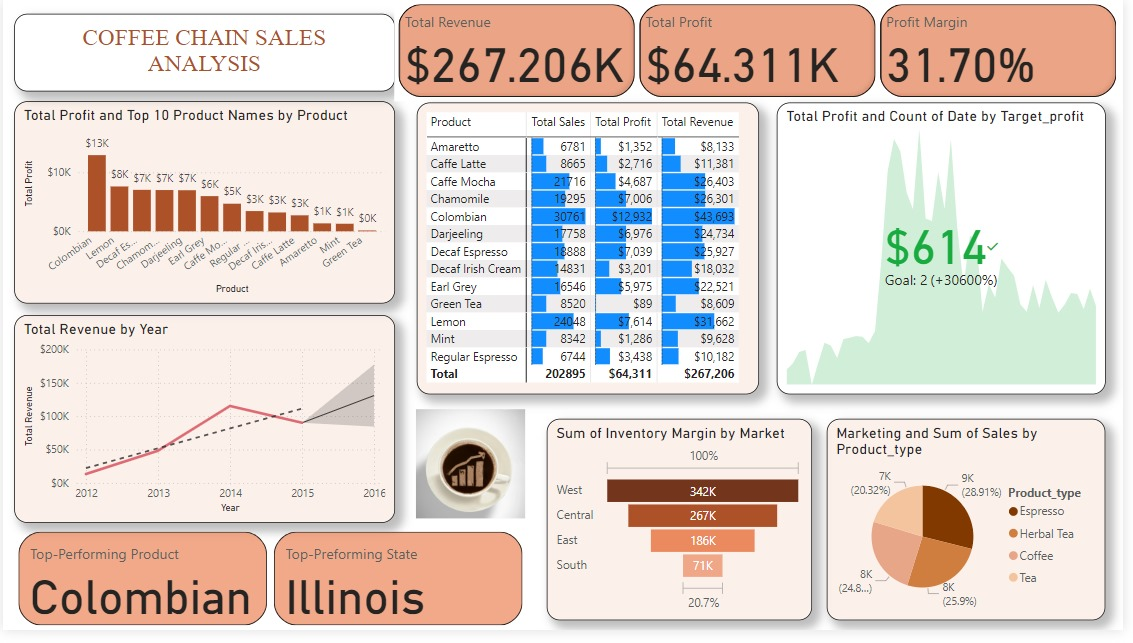

Layout of this report page (visuals, bound fields, positions):
{"tool":"powerbi","page":{"name":"Overview","canvas":[1280,720],"ordinal":0},"visuals":[{"type":"image","box":[447.3,462.4,174.3,134.5],"z":0},{"type":"textbox","box":[12.5,15,435,88.8],"z":1000},{"type":"clusteredColumnChart","fields":{"Category":["Coffee_Chain_Sales.Product"],"Y":["Coffee_Chain_Sales.Total Profit"]},"box":[12.5,116.2,435,231.2],"z":2000},{"type":"cardVisual","fields":{"Data":["Coffee_Chain_Sales.Total Revenue","Coffee_Chain_Sales.Total Profit","Coffee_Chain_Sales.Profit Margin"]},"box":[447.6,0,832.7,116.2],"z":3000},{"type":"lineChart","fields":{"Category":["Coffee_Chain_Sales.Date.Variation.Date Hierarchy.Year","Coffee_Chain_Sales.Date.Variation.Date Hierarchy.Month"],"Y":["Coffee_Chain_Sales.Total Revenue"]},"box":[12.5,360,435,237.5],"z":4000},{"type":"cardVisual","fields":{"Data":["Coffee_Chain_Sales.Top-Performing Product","Coffee_Chain_Sales.Top-Preforming State"]},"box":[12.5,602.5,587.5,117.5],"z":6000},{"type":"funnel","fields":{"Category":["Coffee_Chain_Sales.Market"],"Y":["Sum(Coffee_Chain_Sales.Inventory Margin)"]},"box":[621.6,478.9,303.3,230.5],"z":7000},{"type":"pivotTable","fields":{"Rows":["Coffee_Chain_Sales.Product"],"Values":["Coffee_Chain_Sales.Total Sales","Coffee_Chain_Sales.Total Profit","Coffee_Chain_Sales.Total Revenue"]},"box":[473.4,116.6,391.1,333.4],"z":8000},{"type":"pieChart","fields":{"Category":["Coffee_Chain_Sales.Product_type"],"Y":["Sum(Coffee_Chain_Sales.Marketing)"]},"box":[941.3,478.9,318.4,230.5],"z":8001},{"type":"kpi","fields":{"Indicator":["Coffee_Chain_Sales.Total Profit"],"TrendLine":["Coffee_Chain_Sales.Target_profit"],"Goal":["CountNonNull(Coffee_Chain_Sales.Date)"]},"box":[883.7,116.6,376,333.4],"z":8002}]}

Visuals, with their boxes in screenshot pixels (x1, y1, x2, y2), scaled from the page's 1280x720 canvas onto the 1133x643 screenshot:
image: [left=396, top=413, right=550, bottom=533]
textbox: [left=11, top=13, right=396, bottom=93]
clusteredColumnChart - Coffee_Chain_Sales.Product x Coffee_Chain_Sales.Total Profit: [left=11, top=104, right=396, bottom=310]
cardVisual - Coffee_Chain_Sales.Total Revenue x Coffee_Chain_Sales.Total Profit: [left=396, top=0, right=1132, bottom=104]
lineChart - Coffee_Chain_Sales.Date.Variation.Date Hierarchy.Year x Coffee_Chain_Sales.Date.Variation.Date Hierarchy.Month: [left=11, top=322, right=396, bottom=534]
cardVisual - Coffee_Chain_Sales.Top-Performing Product x Coffee_Chain_Sales.Top-Preforming State: [left=11, top=538, right=531, bottom=642]
funnel - Coffee_Chain_Sales.Market x Sum(Coffee_Chain_Sales.Inventory Margin): [left=550, top=428, right=819, bottom=634]
pivotTable - Coffee_Chain_Sales.Product x Coffee_Chain_Sales.Total Sales: [left=419, top=104, right=765, bottom=402]
pieChart - Coffee_Chain_Sales.Product_type x Sum(Coffee_Chain_Sales.Marketing): [left=833, top=428, right=1115, bottom=634]
kpi - Coffee_Chain_Sales.Total Profit x Coffee_Chain_Sales.Target_profit: [left=782, top=104, right=1115, bottom=402]
